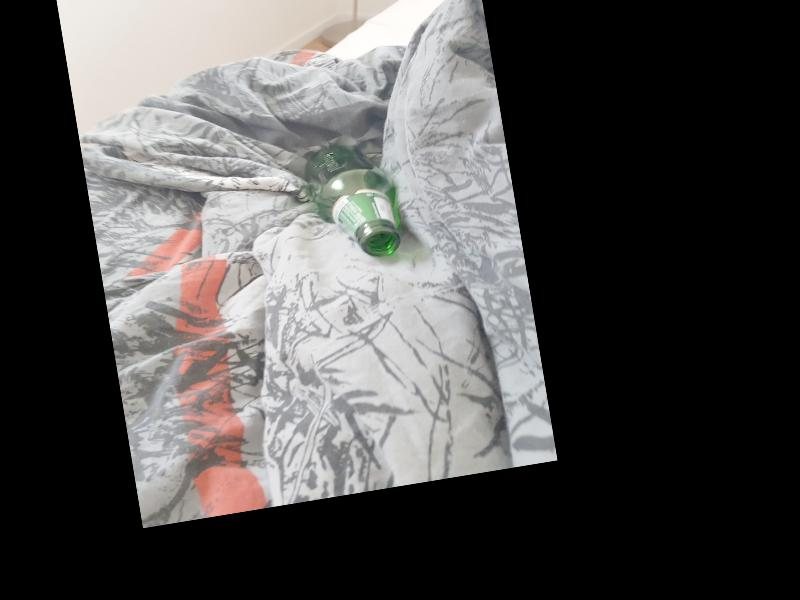Beer: (301, 136, 406, 267)
